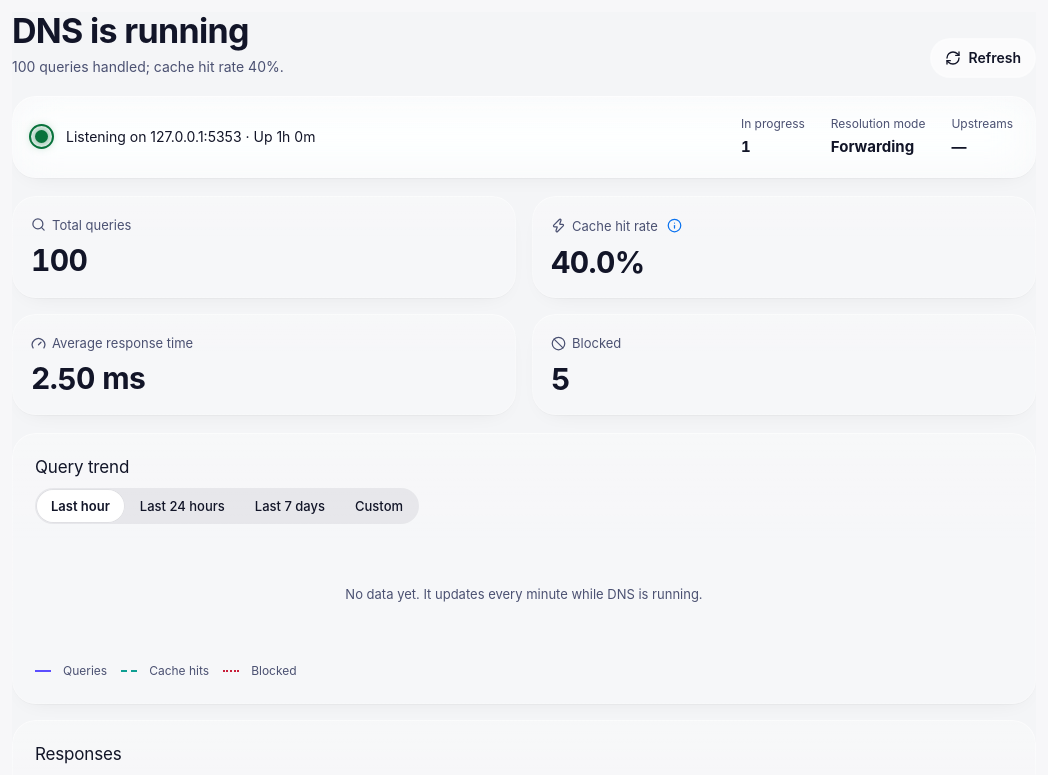
Test case: OverviewPage › shows one hit rate that includes stale hits and coalesced queries, with the definition behind ⓘ
Check: the text "100 queries handled; cache hit rate 40%." is shown, box [12, 56, 284, 78]
Click the button named "About “Cache hit rate”": (675, 226) [664, 215, 686, 237]
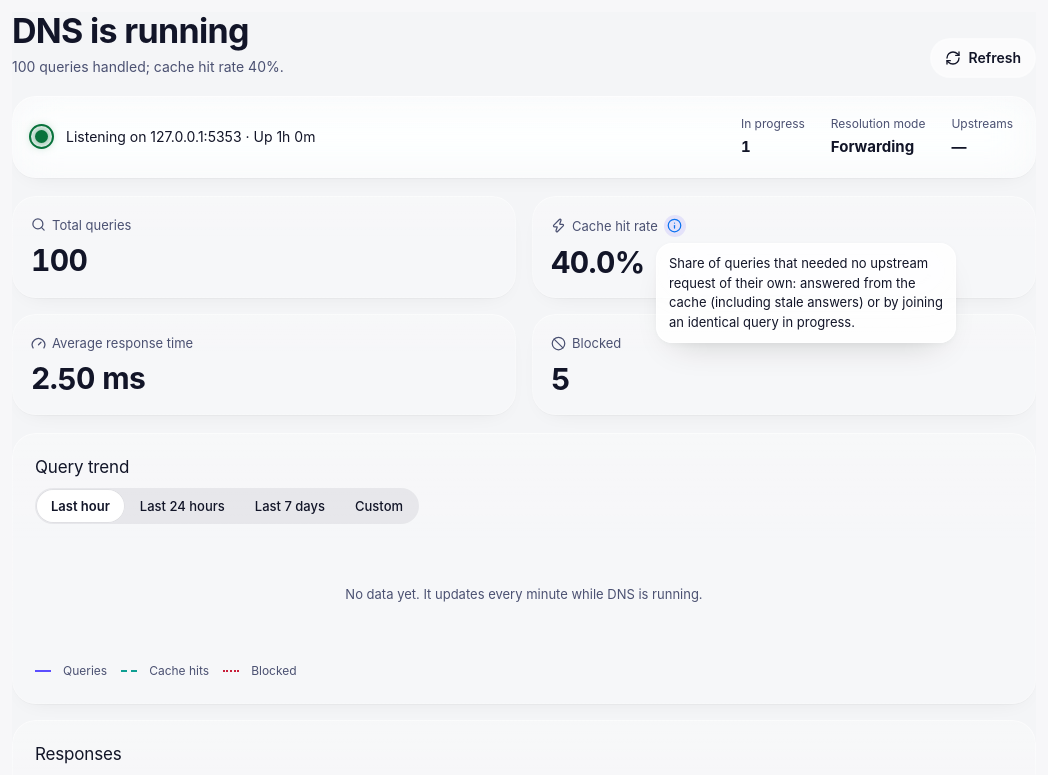
Check: the text "joining an identical query in progress" is shown, box [669, 255, 943, 329]
